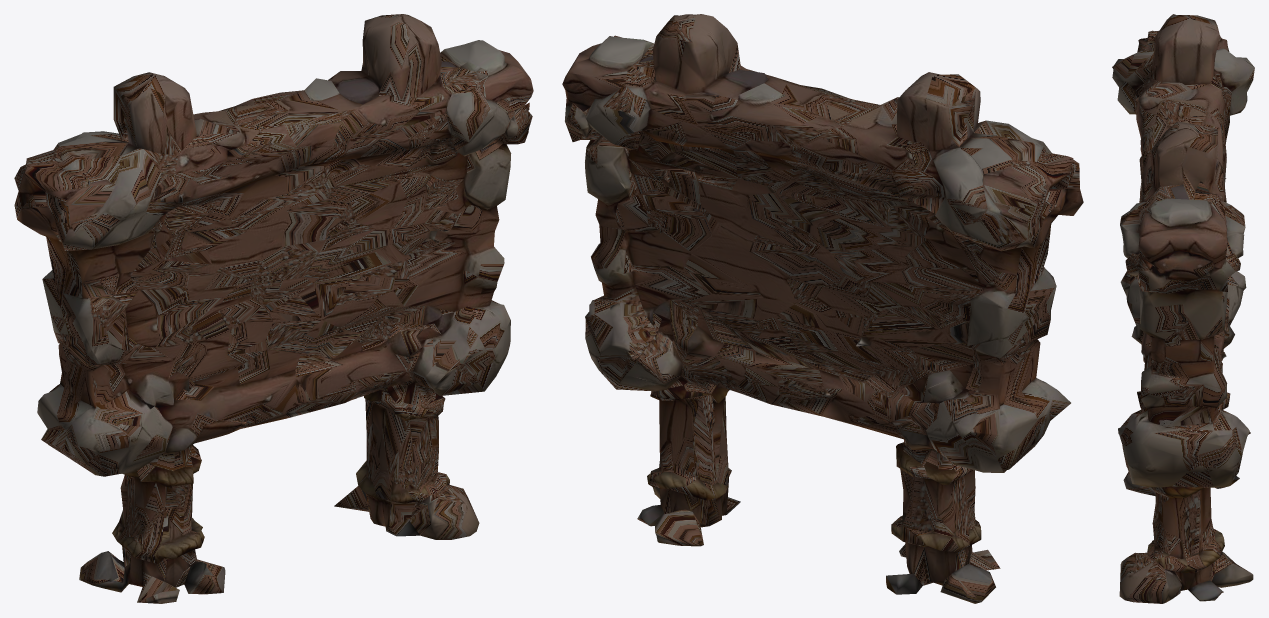
File: stone_sign_01.glb
3 views of the same model, side by side, from view 1: azimuth 30°, elevation 25°; view 2: azimuth 150°, elevation 25°; view 3: azimuth 270°, elevation 25° (orthographic). The views are drawn at different scales.
Parts seen in each view (by area): view 1: tripo_node_20483fe8-f8d2-4503-b201-551d8d043b5b; view 2: tripo_node_20483fe8-f8d2-4503-b201-551d8d043b5b; view 3: tripo_node_20483fe8-f8d2-4503-b201-551d8d043b5b.
Part boxes in pixels (x1,y1,x2,y2): tripo_node_20483fe8-f8d2-4503-b201-551d8d043b5b: (14, 14, 533, 603); tripo_node_20483fe8-f8d2-4503-b201-551d8d043b5b: (562, 14, 1083, 603); tripo_node_20483fe8-f8d2-4503-b201-551d8d043b5b: (1112, 14, 1254, 603).
Size of the model in its own units: 0.9834 by 0.9782 by 0.2773.
1 material, 1 textured.
